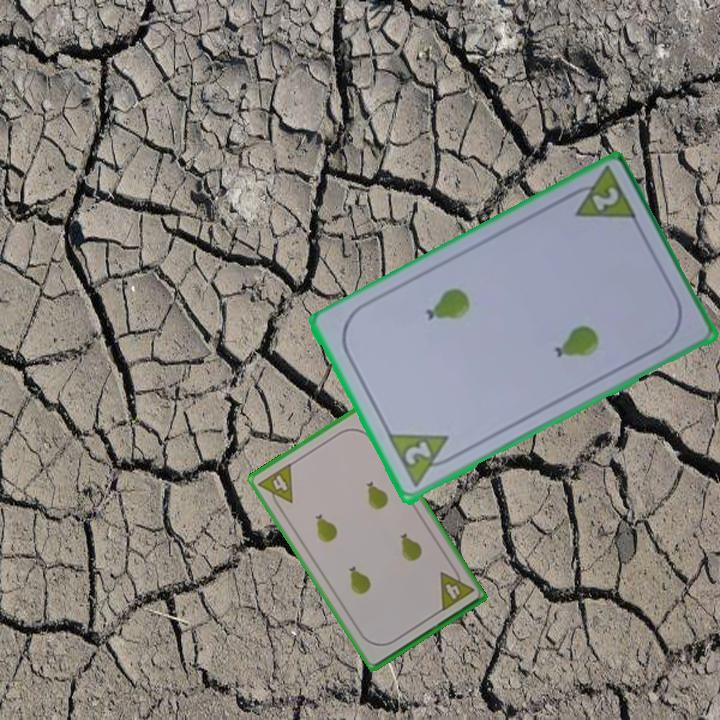2p: (384, 430, 461, 492), (561, 165, 640, 225)
4p: (254, 459, 296, 513), (436, 562, 477, 614)
